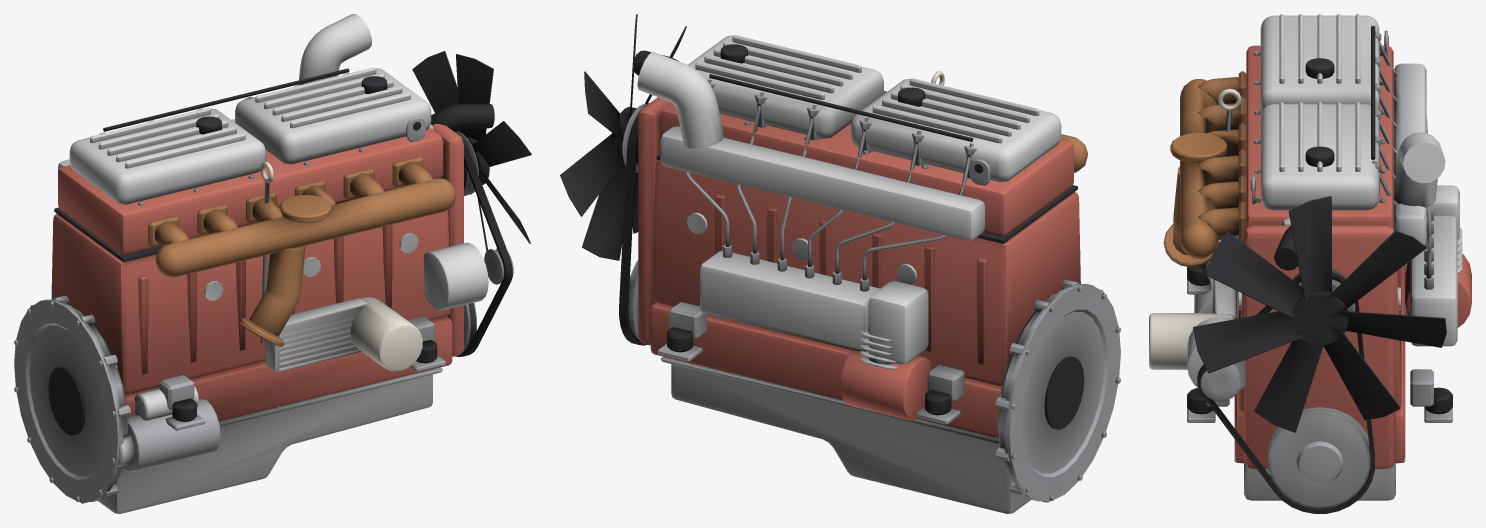
Rendered from eng_d6.glb.
3 views of the same model, side by side, from view 1: azimuth 30°, elevation 25°; view 2: azimuth 150°, elevation 25°; view 3: azimuth 270°, elevation 25° (orthographic). The views are drawn at different scales.
Parts seen in each view (by area): view 1: PART; view 2: PART; view 3: PART.
Part boxes in pixels (<box>): PART: <box>14,14,531,513</box>; PART: <box>560,14,1120,513</box>; PART: <box>1149,14,1471,513</box>.
Bounding box in the file's own units: 1.11 × 0.9238 × 0.68.
